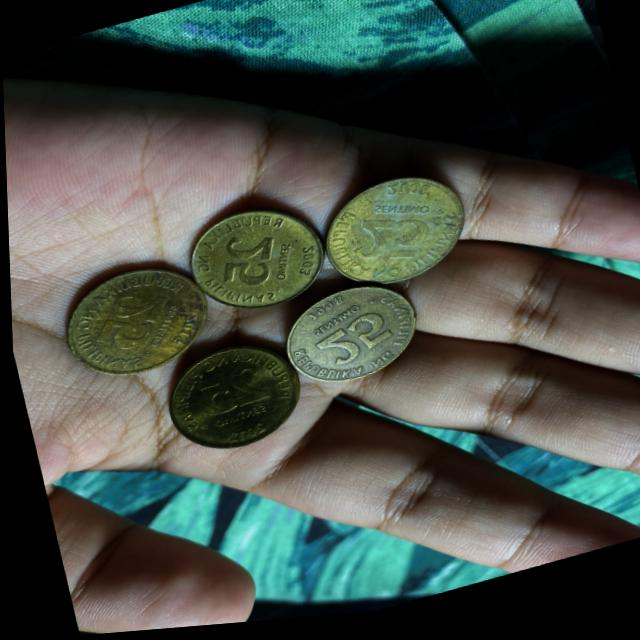25Cent_Old_Front: (88, 285, 169, 360), (352, 213, 436, 276), (306, 316, 391, 377), (209, 235, 283, 300), (189, 367, 269, 425)
